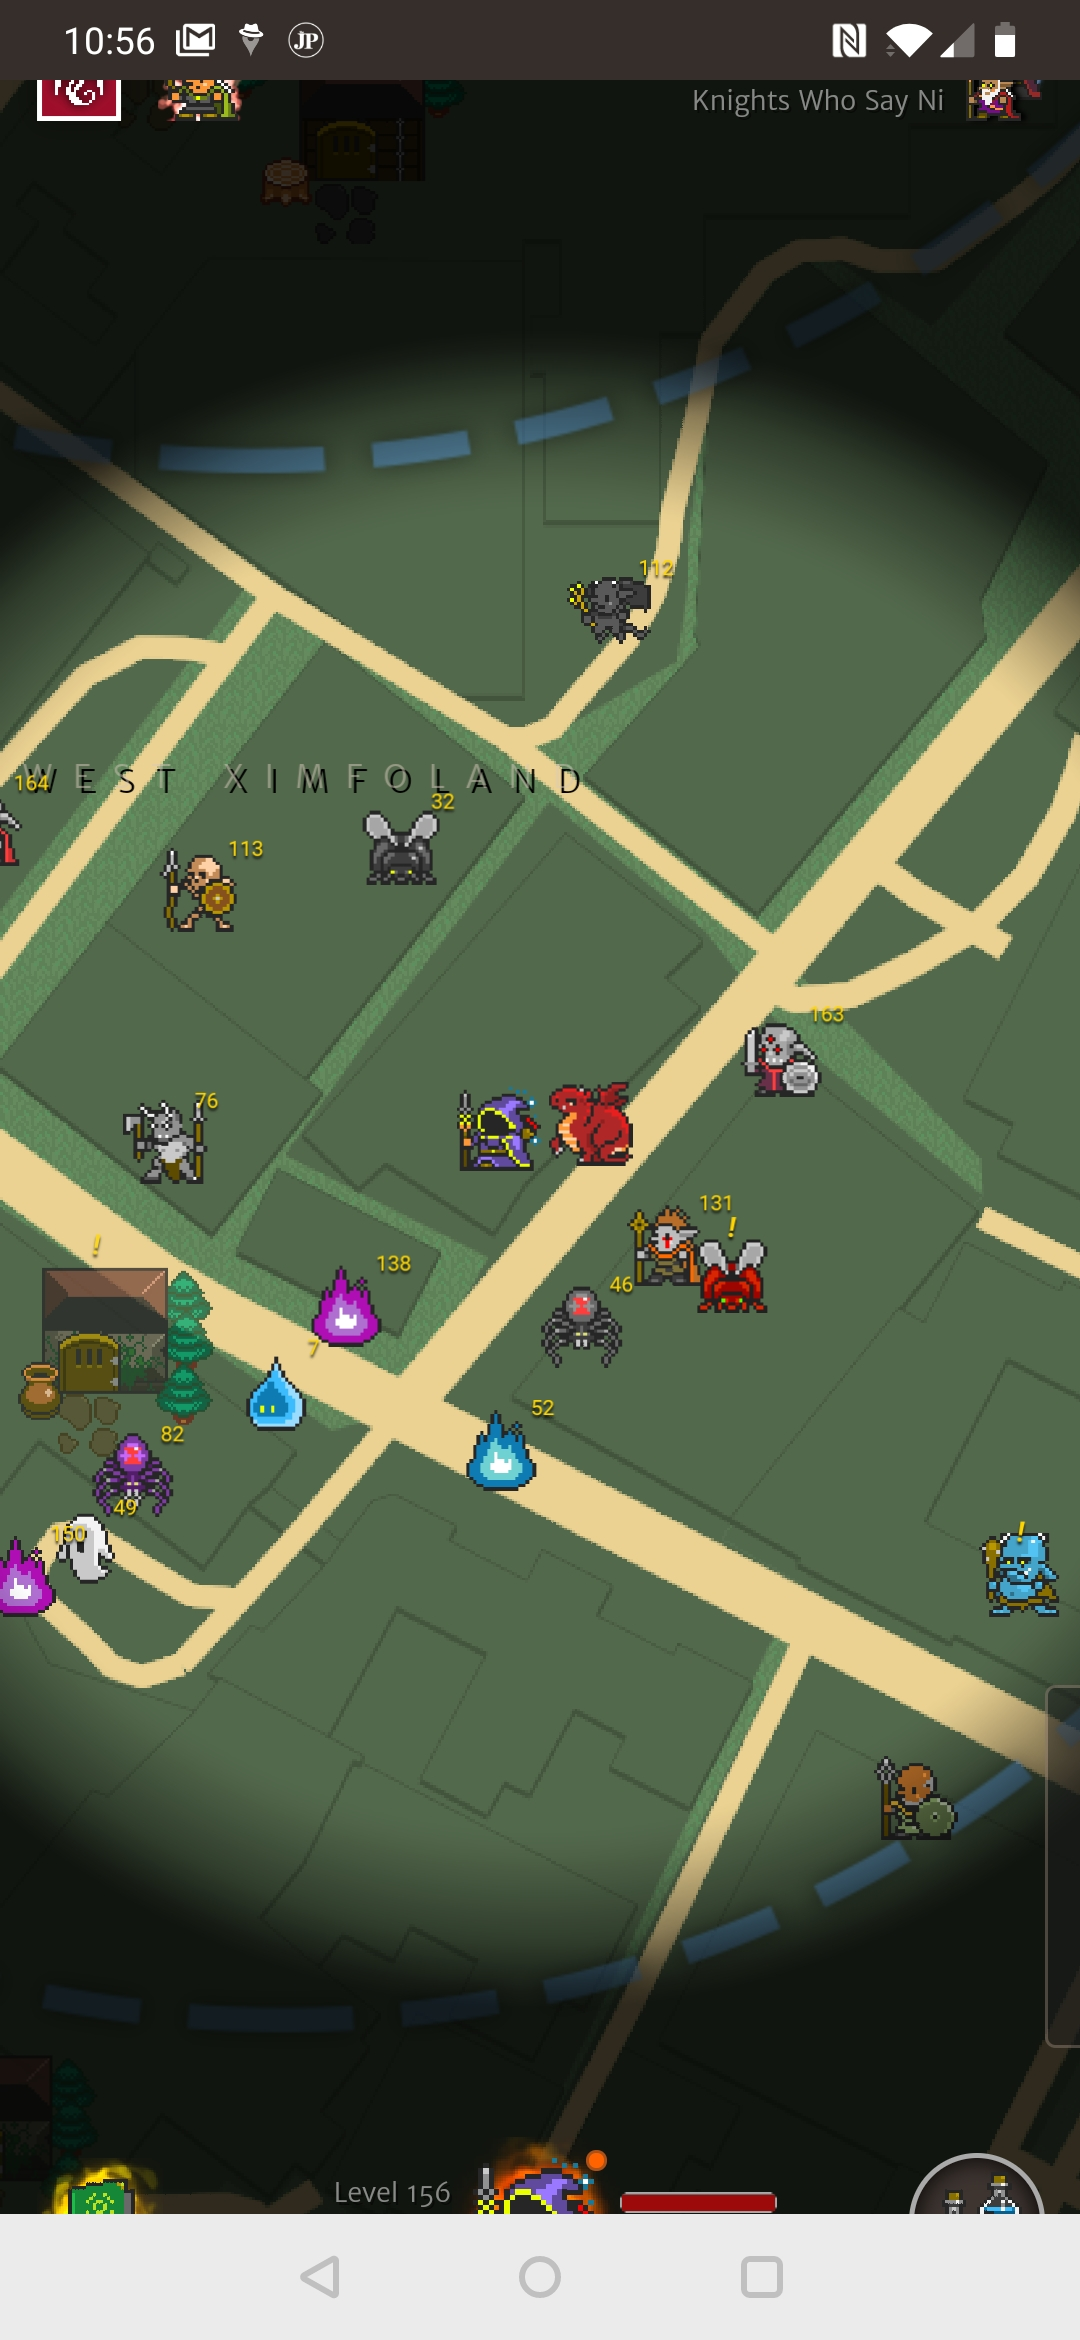monster: (360, 799, 470, 909), (112, 1099, 219, 1206), (453, 1402, 557, 1506), (736, 1009, 839, 1112), (157, 840, 257, 940), (308, 1261, 401, 1354), (243, 1347, 336, 1440), (626, 1202, 715, 1291), (91, 1430, 174, 1513)
player: (443, 1092, 543, 1192)
